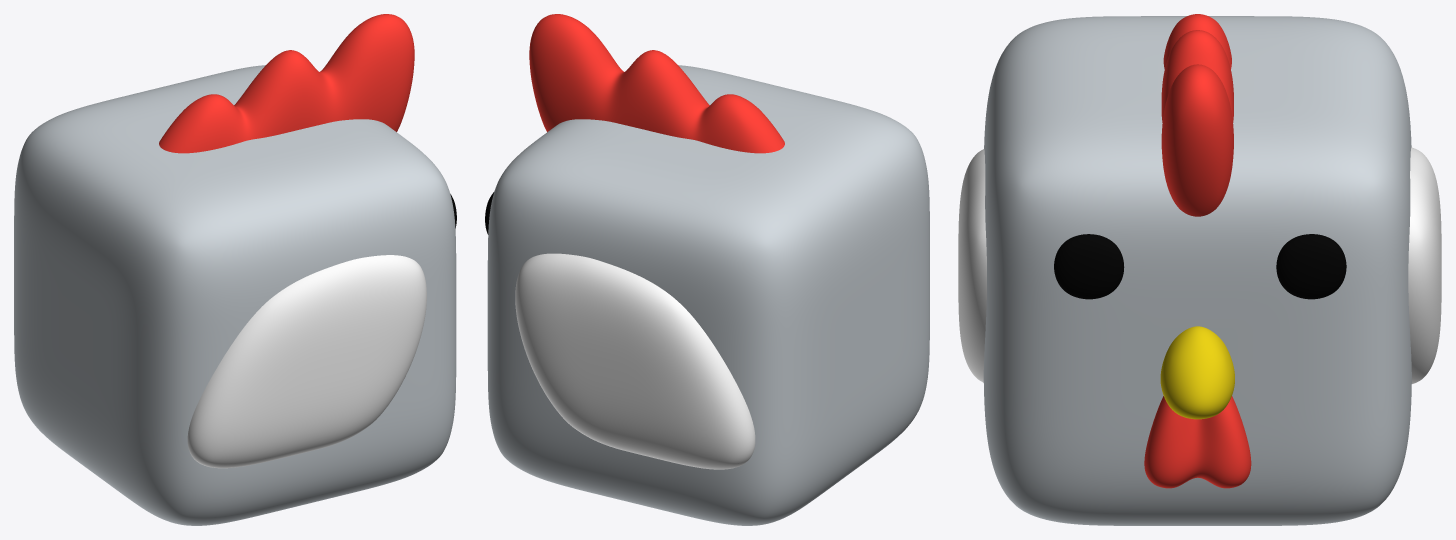
The model's file is Chicken.fbx.
3 views of the same model, side by side, from view 1: azimuth 30°, elevation 25°; view 2: azimuth 150°, elevation 25°; view 3: azimuth 270°, elevation 25° (orthographic). The views are drawn at different scales.
Parts seen in each view (by area): view 1: Cube; view 2: Cube; view 3: Cube.
Boxes of the visible parts, bbox=[...] form: Cube: bbox=[14, 14, 456, 525]; Cube: bbox=[485, 14, 929, 525]; Cube: bbox=[958, 14, 1441, 525].
Size of the model in its own units: 232 by 248 by 226.
